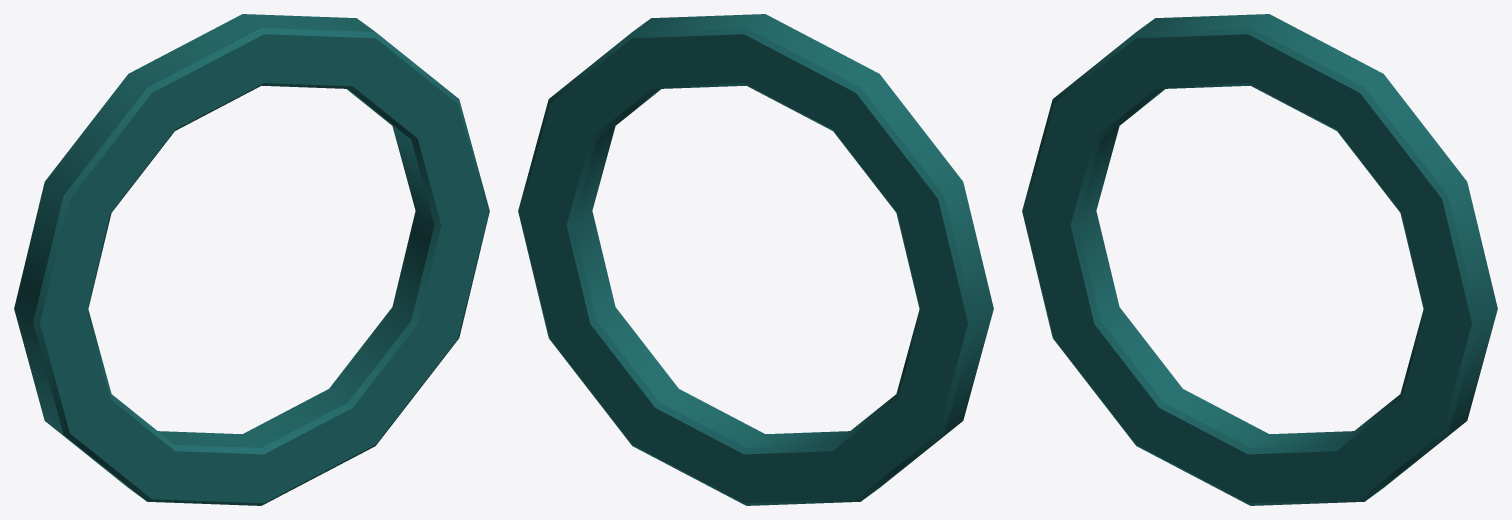
The model's file is k12_lashing_ring.obj.
3 renders of one model, left to right at view 1: azimuth 30°, elevation 25°; view 2: azimuth 150°, elevation 25°; view 3: azimuth 330°, elevation 25°, orthographic.
Parts seen in each view (by area): view 1: k12_lashing_ring; view 2: k12_lashing_ring; view 3: k12_lashing_ring.
Boxes of the visible parts, bbox=[...] form: k12_lashing_ring: bbox=[14, 14, 489, 505]; k12_lashing_ring: bbox=[518, 14, 993, 505]; k12_lashing_ring: bbox=[1022, 14, 1497, 505].
Size of the model in its own units: 2.1 by 2.1 by 0.1905.
